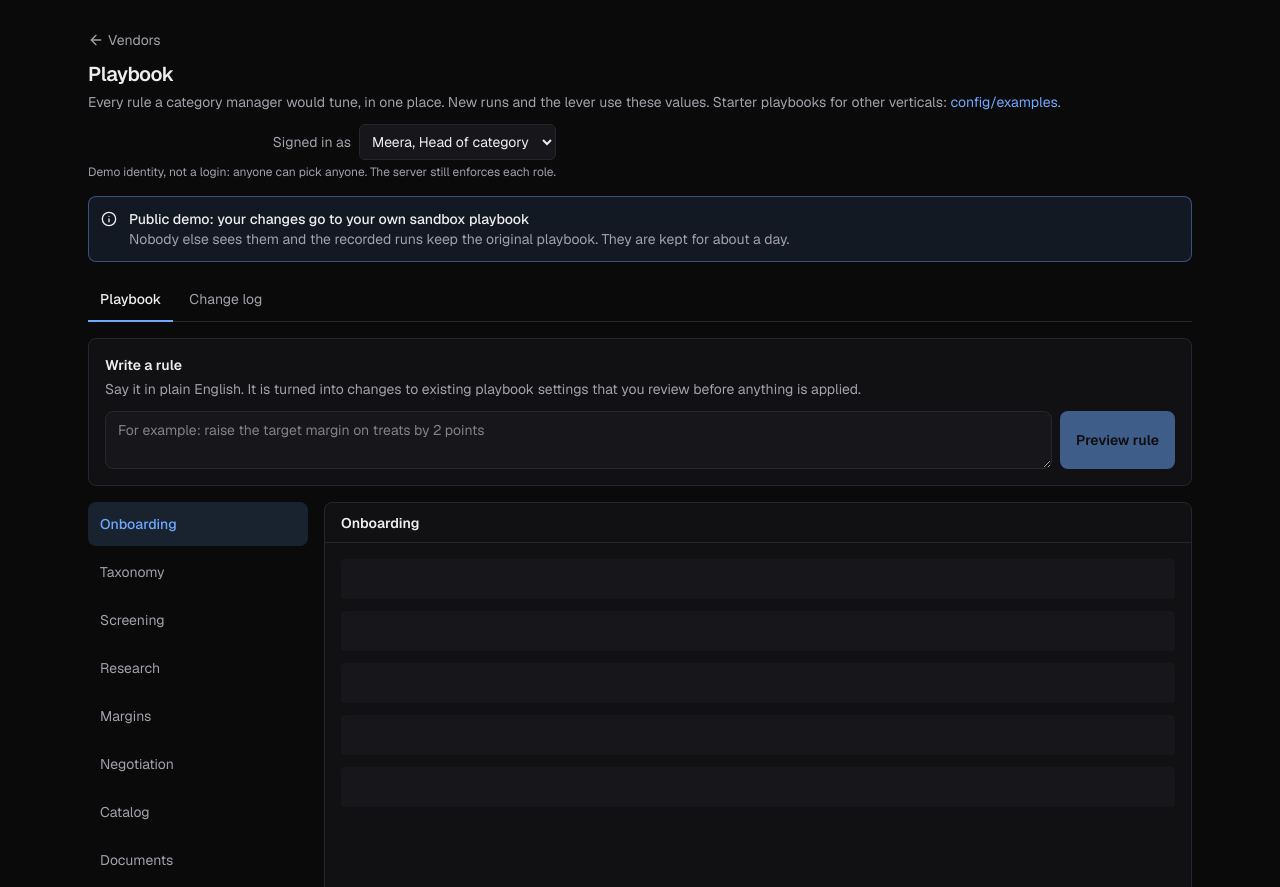
Test: Write a rule and the change log › tells a public visitor their edits are sandboxed
Expected: the text "Public demo: your changes go to your own sandbox playbook" is shown, 129,210 -> 530,228
What coordinates should you click on to do the following:
click the button "Research"
I would click on:
 (198, 668)
Its box is 88,646 -> 308,690.
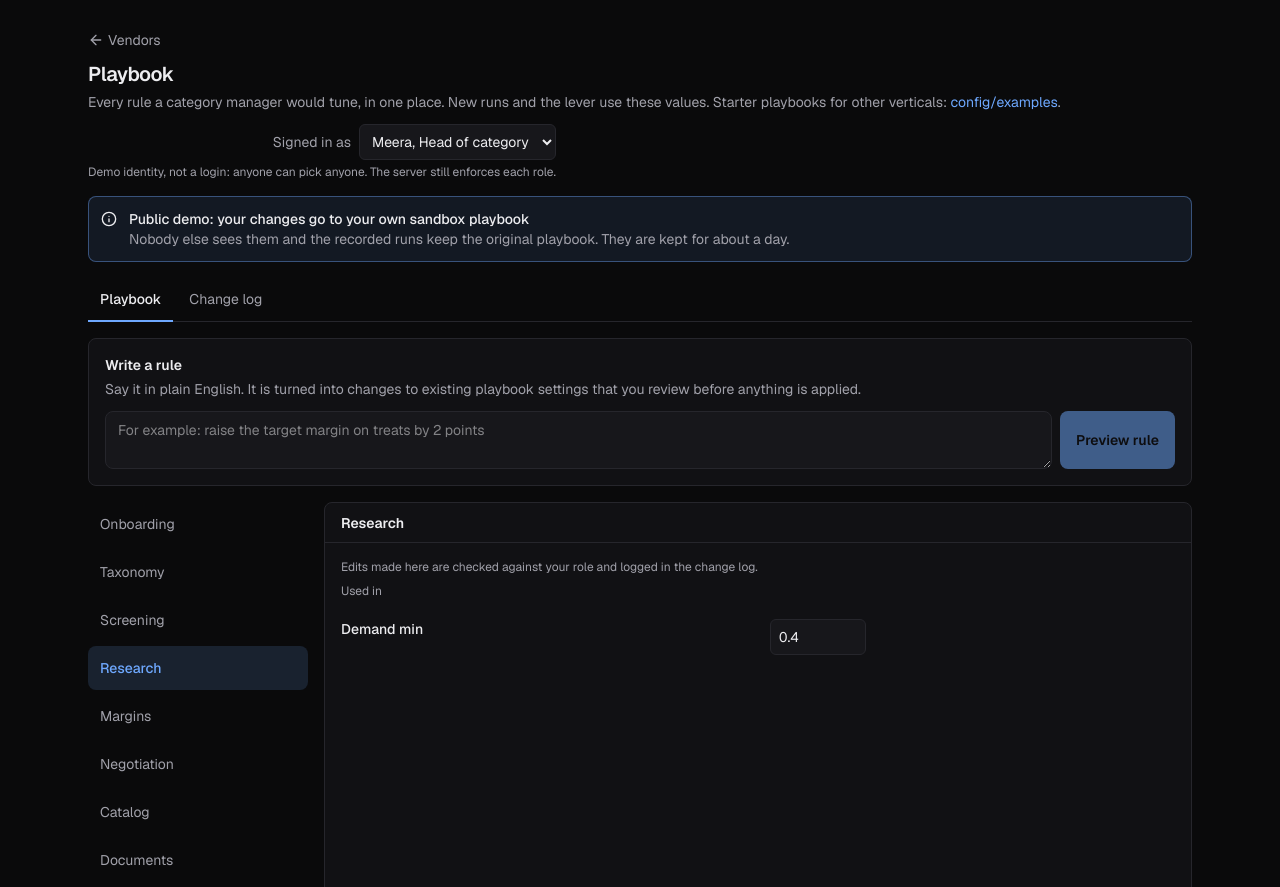
Expected: the text "checked against your role and logged" is shown, 341,559 -> 758,575
